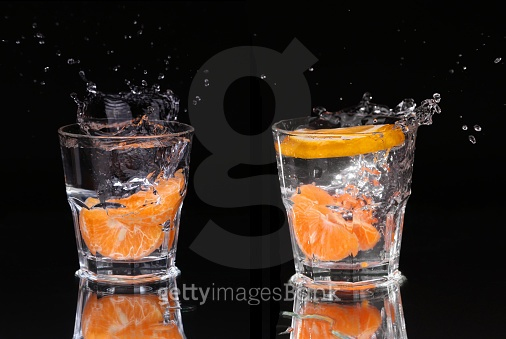glass of water: (270, 95, 444, 302), (48, 88, 191, 295)
